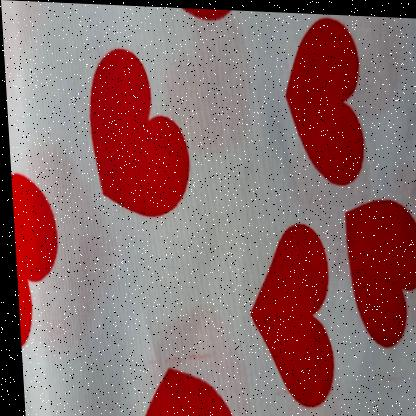spot: (139, 334, 211, 372)
